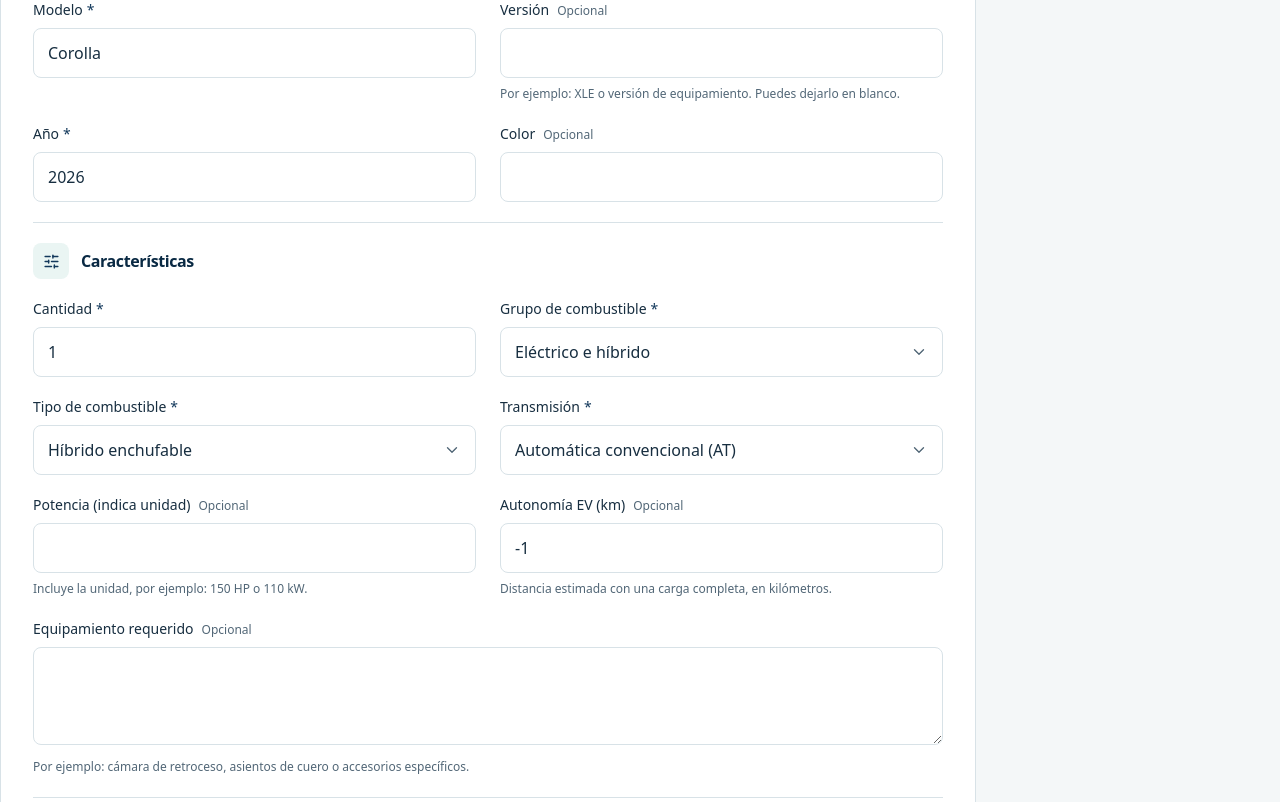
Test: Flujo público FRI › un campo EV oculto deja de bloquear el avance al cambiar de grupo
(page scrolled)
Select "Diésel" in the dropdown labelled "Grupo de combustible*" at (722, 352), box [500, 327, 943, 377]
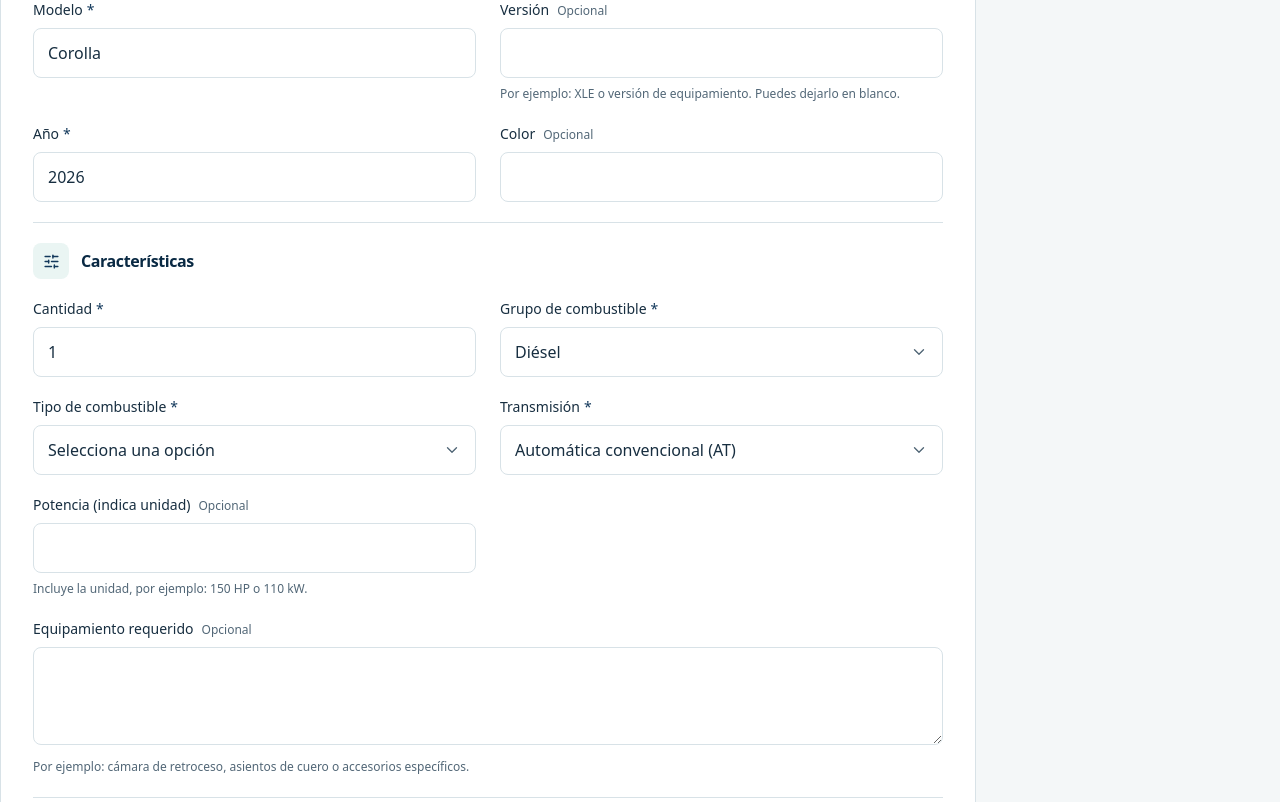
Select "Diésel" in the dropdown labelled "Tipo de combustible*" at (254, 450), box [33, 425, 476, 475]
(page scrolled)
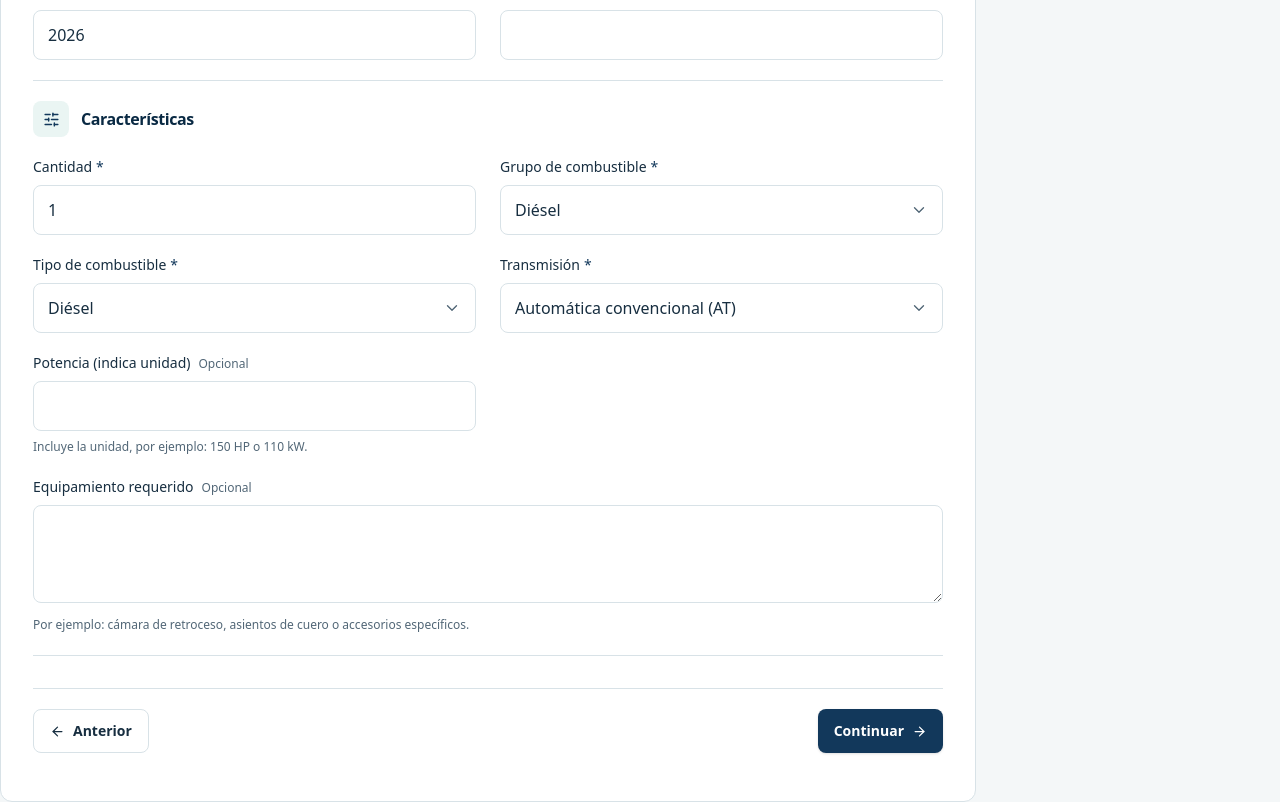
Expected: the label labelled "Autonomía EV" is not shown
Click the button "Continuar" at (880, 731), box [818, 709, 943, 753]
(page scrolled)
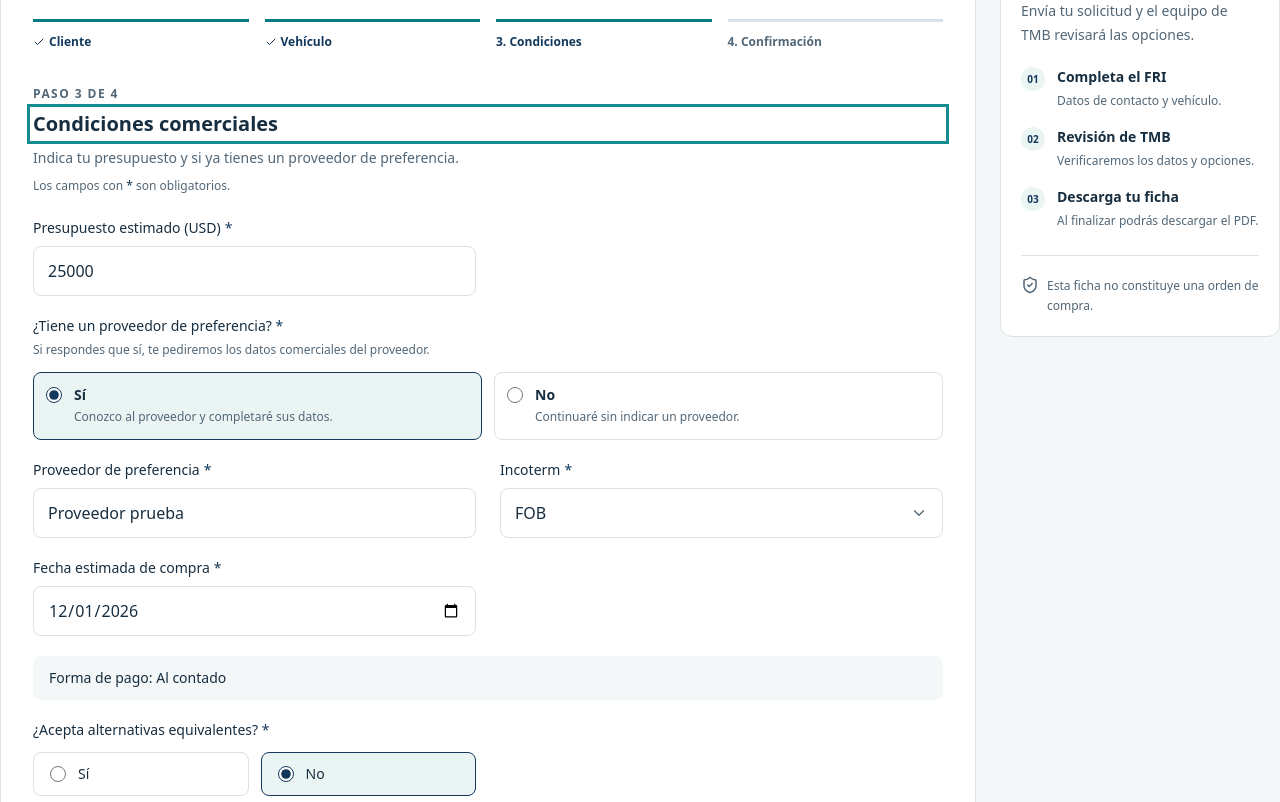
Now the heading "Condiciones comerciales" is shown, box [33, 110, 278, 137]
